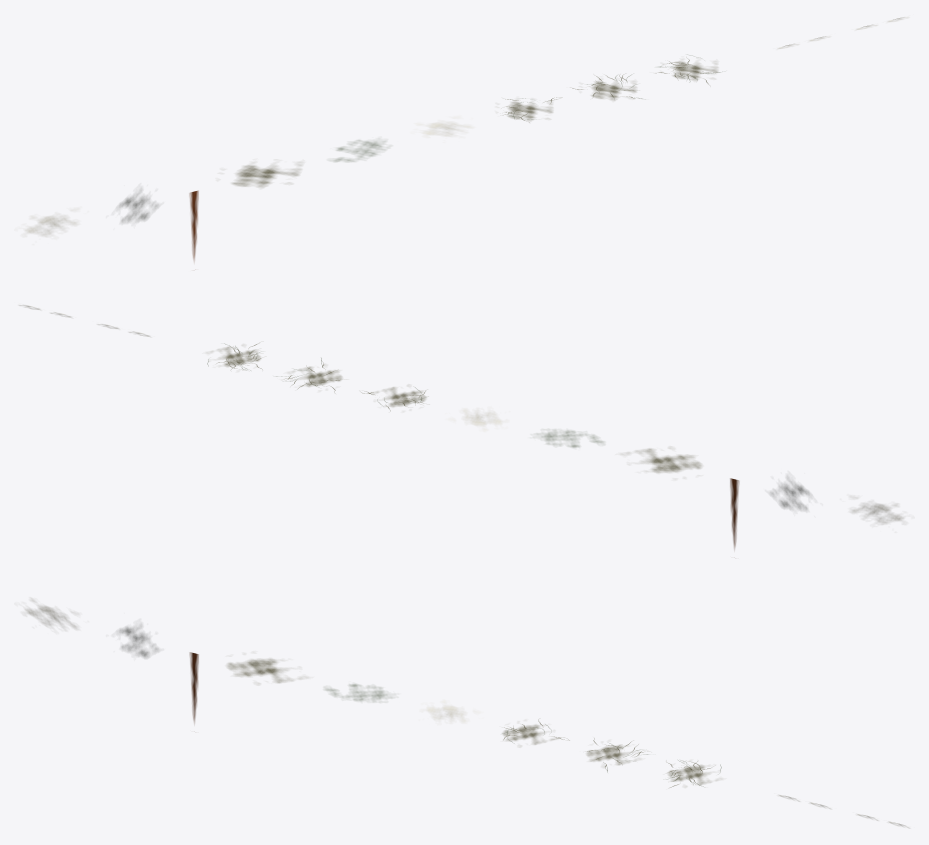
The model's file is organico.glb.
The picture shows the model from 3 angles, top to bottom: view 1: azimuth 30°, elevation 25°; view 2: azimuth 150°, elevation 25°; view 3: azimuth 330°, elevation 25°; orthographic projection.
Visible parts, largest first — view 1: det_macchia_alghe_secche_pavimento, det_alghe_secche_mucchio_3, det_alghe_secche_mucchio_2; view 2: det_macchia_alghe_secche_pavimento, det_alghe_secche_mucchio_3, det_macchia_calcare_muro; view 3: det_macchia_alghe_secche_pavimento, det_macchia_calcare_muro, det_alghe_secche_mucchio_2, det_alghe_secche_mucchio_3, det_macchia_muffa_muro.
Part boxes in pixels (bbox=[...]): det_macchia_alghe_secche_pavimento: bbox=[232, 165, 300, 187]; det_alghe_secche_mucchio_3: bbox=[658, 60, 720, 84]; det_alghe_secche_mucchio_2: bbox=[572, 75, 641, 100]; det_macchia_alghe_secche_pavimento: bbox=[628, 448, 701, 472]; det_alghe_secche_mucchio_3: bbox=[207, 343, 261, 369]; det_macchia_calcare_muro: bbox=[851, 497, 903, 524]; det_macchia_alghe_secche_pavimento: bbox=[227, 659, 300, 682]; det_macchia_calcare_muro: bbox=[25, 598, 77, 629]; det_alghe_secche_mucchio_2: bbox=[587, 738, 647, 771]; det_alghe_secche_mucchio_3: bbox=[668, 761, 721, 787]; det_macchia_muffa_muro: bbox=[119, 625, 158, 657].
Bounding box in the file's own units: 14.35 × 1.6 × 1.2.
5 materials, 5 textured.
